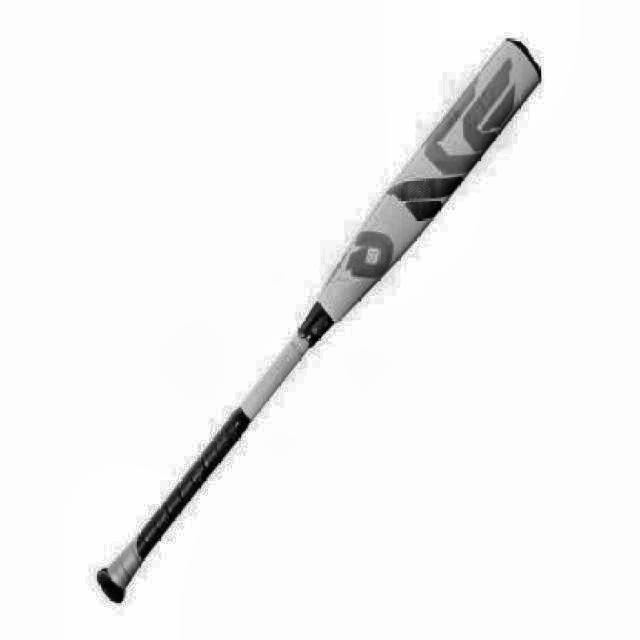tongkat pemukul: (88, 27, 560, 615)
